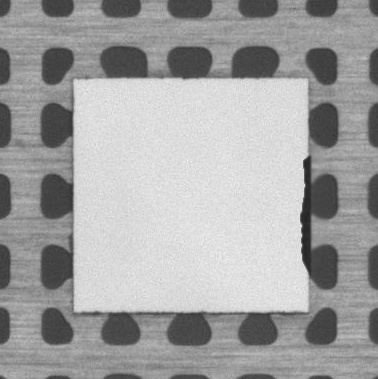DIE_BROKEN: (297, 149, 313, 271)
